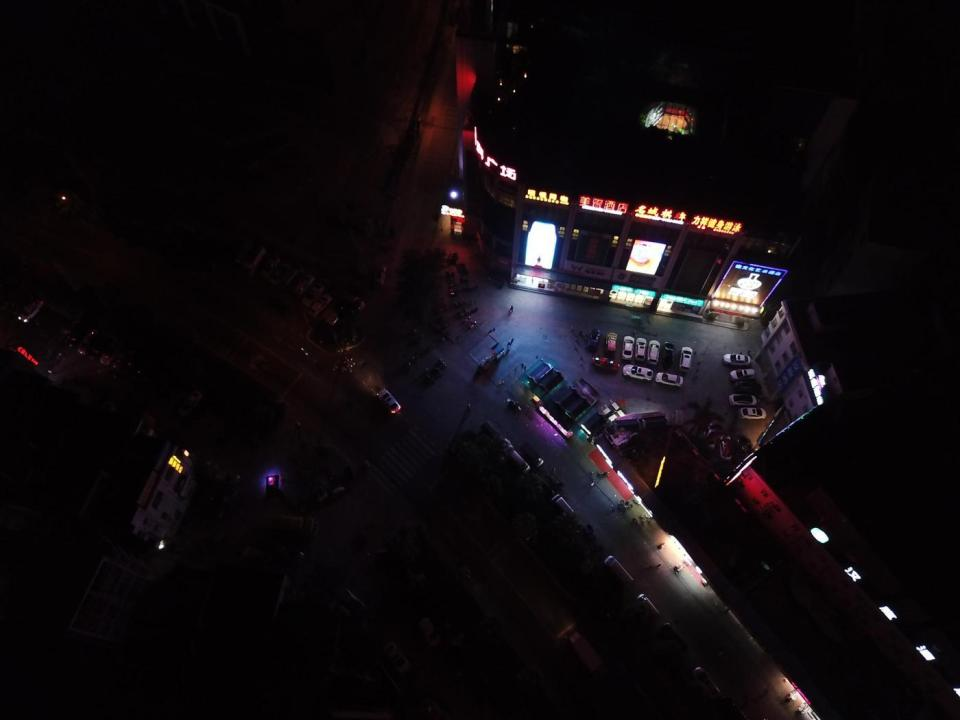car: (335, 587, 370, 621), (382, 641, 414, 678), (693, 665, 723, 702), (661, 620, 690, 658), (418, 615, 442, 649), (176, 388, 203, 418), (17, 298, 45, 324), (337, 290, 366, 314), (300, 281, 324, 309), (376, 388, 401, 414), (63, 321, 85, 350), (77, 329, 99, 356), (622, 364, 653, 382), (308, 294, 331, 318), (111, 347, 132, 371), (294, 273, 316, 295), (100, 342, 120, 366), (592, 354, 620, 371), (655, 371, 683, 387), (722, 353, 751, 368), (733, 381, 763, 395), (718, 434, 732, 462), (372, 264, 388, 288), (679, 346, 693, 373), (738, 406, 766, 419), (646, 339, 660, 365), (703, 422, 715, 452), (729, 368, 755, 381), (729, 394, 757, 406), (621, 336, 635, 360), (661, 342, 675, 366), (634, 338, 647, 362), (587, 328, 601, 350), (605, 332, 618, 354)
truck: (480, 419, 514, 456)
van: (563, 630, 603, 674), (262, 512, 321, 539), (604, 555, 634, 588), (242, 242, 267, 278), (550, 492, 575, 518), (520, 441, 544, 468), (636, 593, 659, 620), (509, 450, 531, 475), (671, 409, 683, 430)
